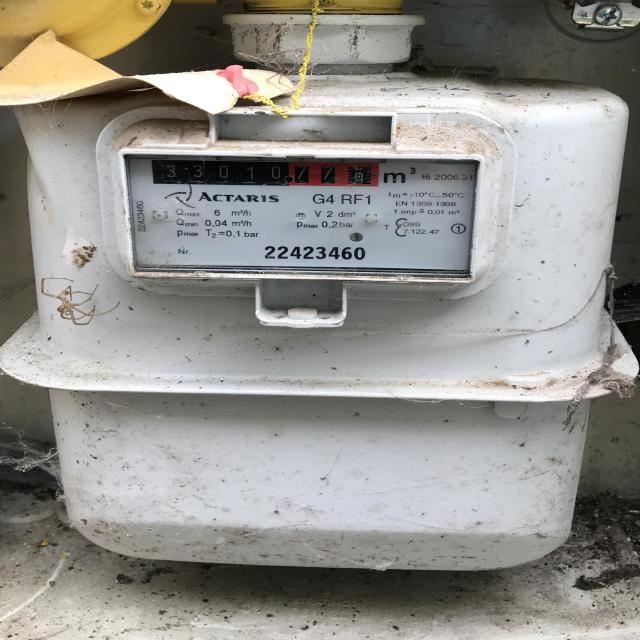gaz_meter: (122, 147, 484, 279)
indication: (144, 156, 379, 190)
